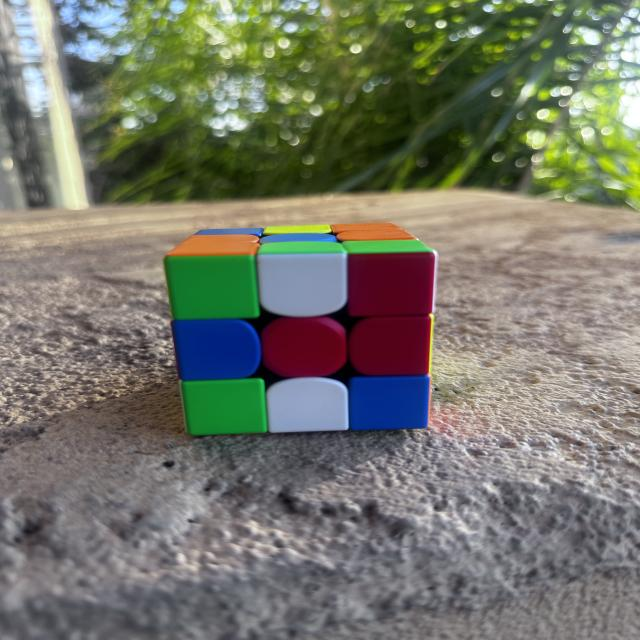sticker: (164, 234, 265, 322), (255, 243, 350, 320), (343, 247, 437, 320), (258, 316, 349, 380), (172, 319, 264, 382), (347, 315, 435, 378), (181, 377, 268, 437), (264, 376, 351, 434), (348, 375, 431, 433), (167, 234, 263, 256), (334, 230, 416, 242), (330, 223, 410, 235), (260, 224, 336, 236), (257, 233, 338, 244), (194, 227, 262, 236)
